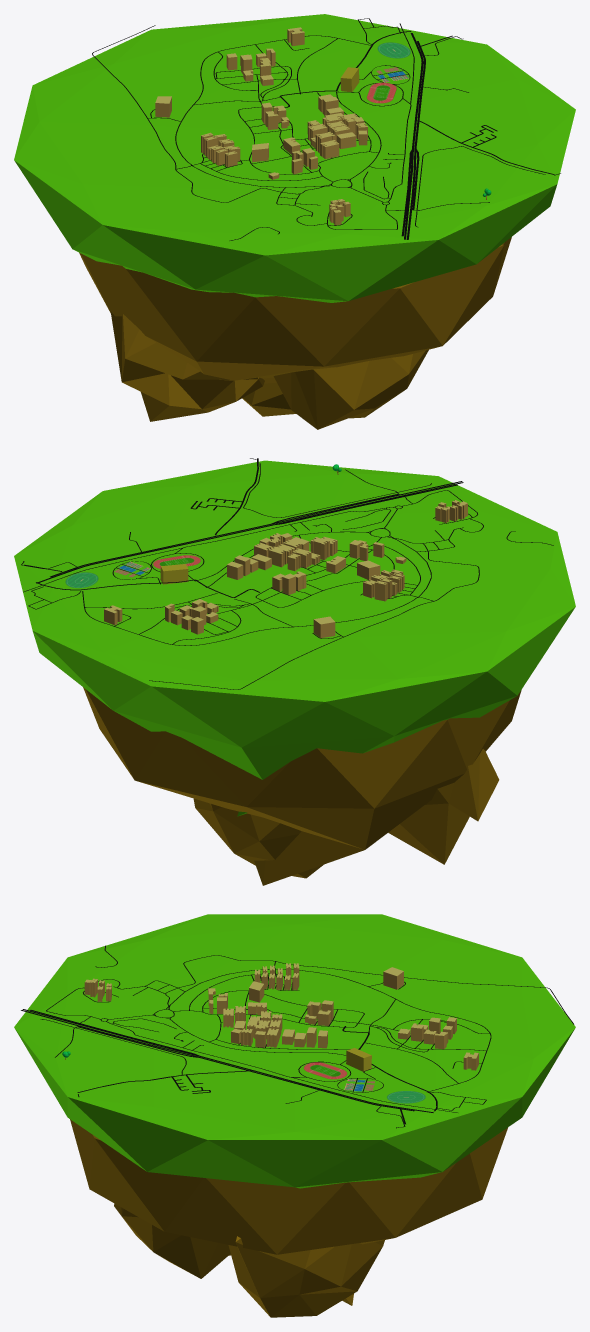
Rendered from clg model9.glb.
3 renders of one model, top to bottom at view 1: azimuth 30°, elevation 25°; view 2: azimuth 150°, elevation 25°; view 3: azimuth 270°, elevation 25°, orthographic. The views are drawn at different scales.
Parts seen in each view (by area): view 1: Icosphere.003, Icosphere.004, map.osm_buildings, Icosphere.006, Icosphere.005, map.osm_roads_service, map.osm_roads_trunk, Icosphere.008; view 2: Icosphere.003, Icosphere.004, map.osm_buildings, Icosphere.006, map.osm_roads_service, Icosphere.008, map.osm_roads_trunk; view 3: Icosphere.003, Icosphere.004, Icosphere.008, map.osm_buildings, map.osm_roads_service, Icosphere.005, map.osm_roads_trunk, 4-removebg-preview.
Part boxes in pixels (box(x1,y1,x2,y2)): Icosphere.003: box(14, 14, 575, 302); Icosphere.004: box(79, 237, 511, 383); map.osm_buildings: box(155, 27, 367, 225); Icosphere.006: box(110, 311, 264, 421); Icosphere.005: box(273, 349, 428, 429); map.osm_roads_service: box(92, 18, 560, 240); map.osm_roads_trunk: box(401, 33, 425, 239); Icosphere.008: box(242, 382, 295, 416); Icosphere.003: box(14, 460, 575, 816); Icosphere.004: box(83, 687, 521, 885); map.osm_buildings: box(104, 500, 467, 638); Icosphere.006: box(388, 749, 499, 864); map.osm_roads_service: box(21, 458, 553, 689); Icosphere.008: box(193, 798, 323, 878); map.osm_roads_trunk: box(36, 481, 463, 583); Icosphere.003: box(14, 914, 575, 1188); Icosphere.004: box(70, 1119, 507, 1305); Icosphere.008: box(228, 1236, 384, 1317); map.osm_buildings: box(84, 963, 478, 1070); map.osm_roads_service: box(40, 945, 573, 1128); Icosphere.005: box(114, 1203, 230, 1278); map.osm_roads_trunk: box(21, 1009, 433, 1112); 4-removebg-preview: box(304, 1062, 346, 1079).
Size of the model in its own units: 4383 by 2717 by 4609.
21 materials, 5 textured.
